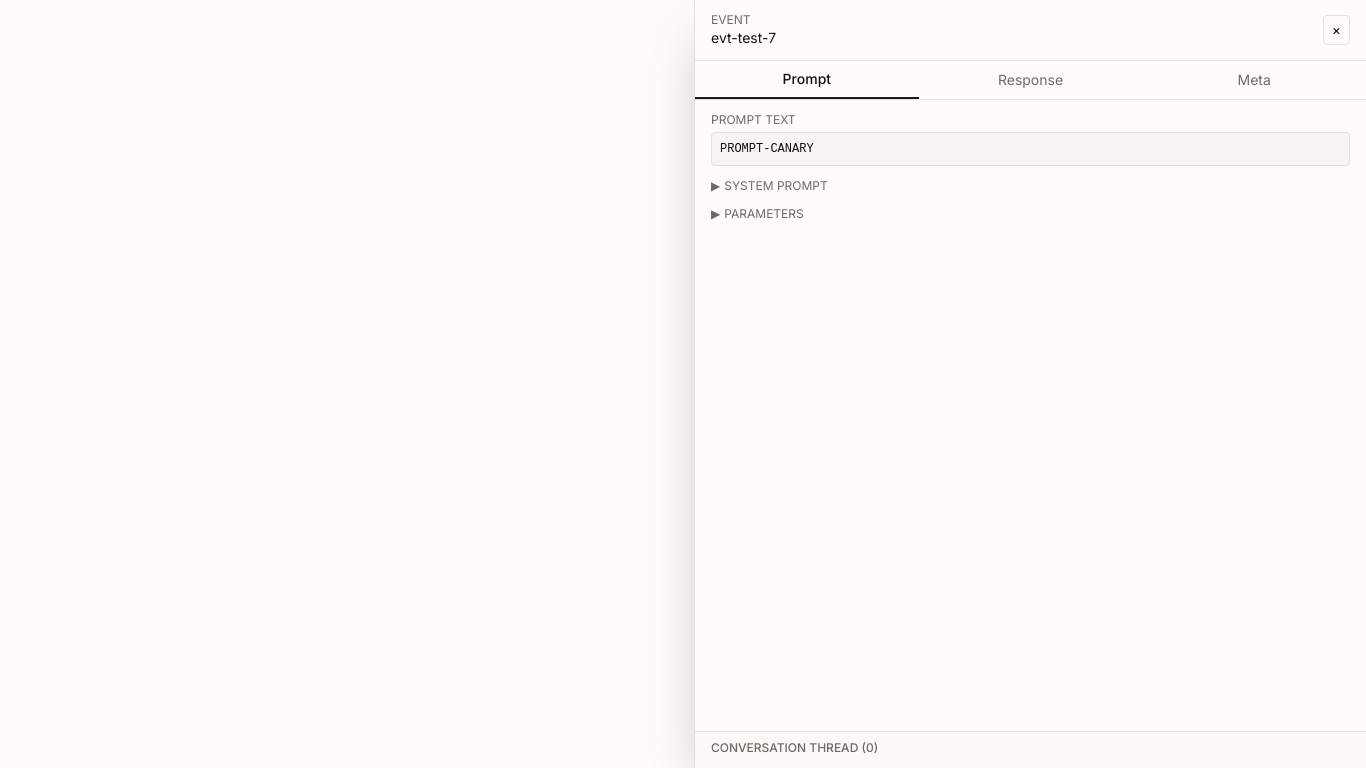
Test: EventSidePanel — tab switching › renders Prompt → Response → Meta with tab-specific content
Expected: the text "PROMPT-CANARY" is shown, [711,132,1350,166]
Expected: the text with test id "event-prompt-text" reads "PROMPT-CANARY", [720,142,814,156]
Click the tab with test id "event-side-panel-tab-response" at [1031, 80], box [919,61,1142,99]
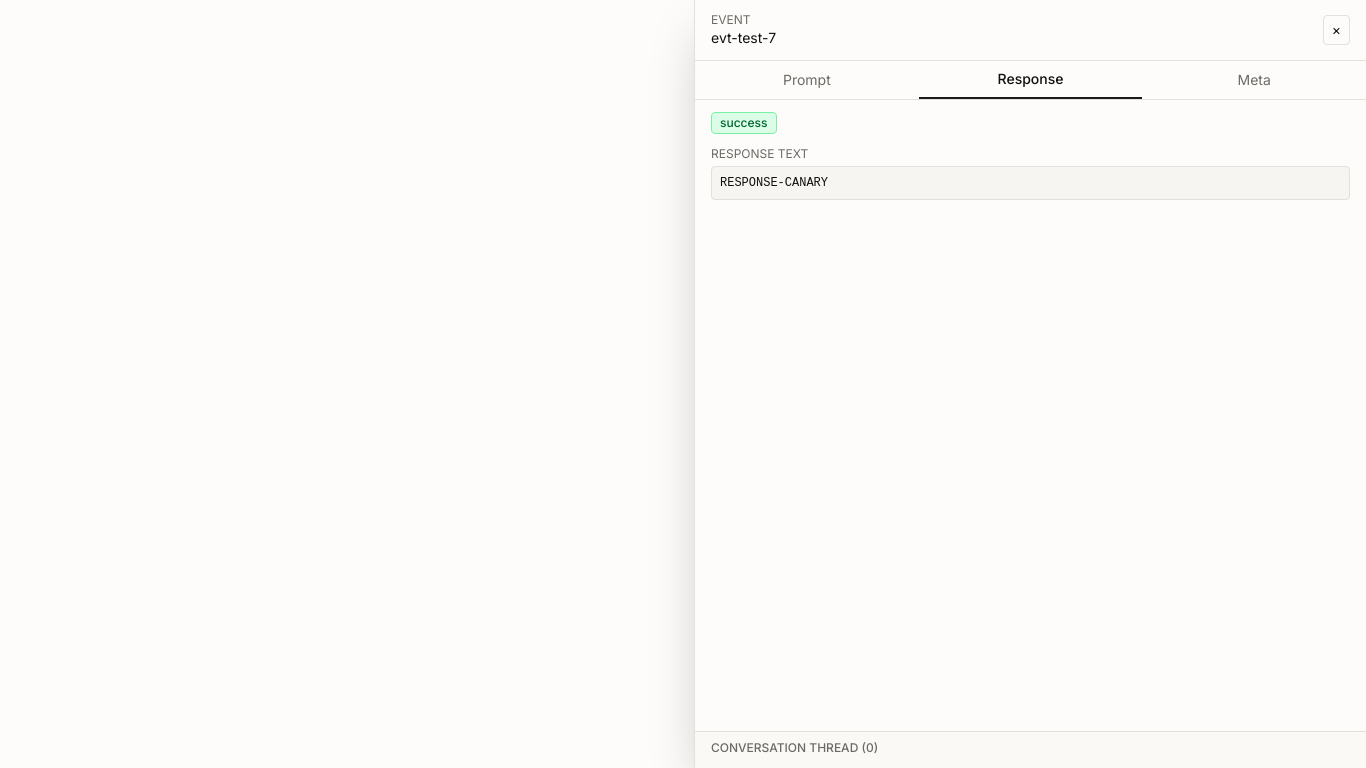
Now the text with test id "event-response-text" reads "RESPONSE-CANARY", box [720,176,828,190]
Now the text with test id "event-prompt-text" is gone
Click the tab with test id "event-side-panel-tab-meta" at [1254, 80], box [1142,61,1365,99]
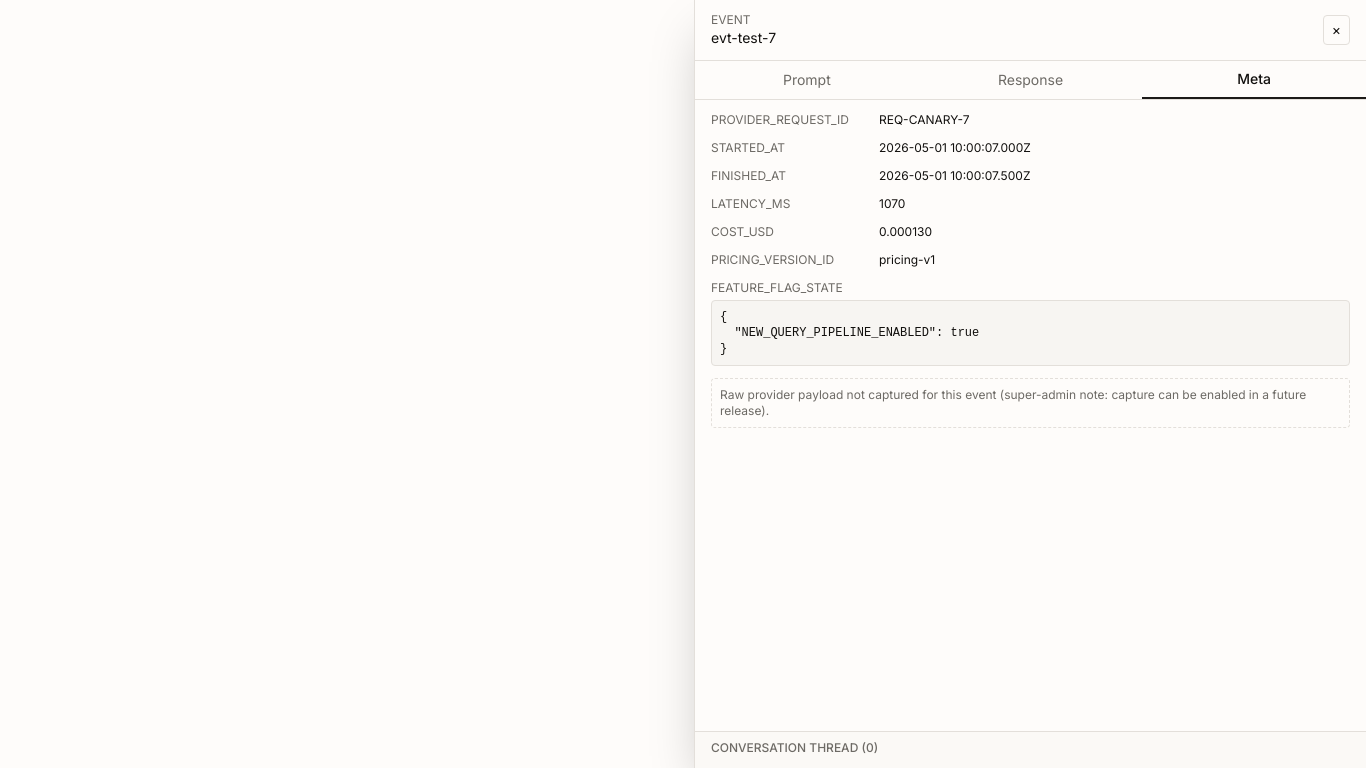
Now the element with test id "event-side-panel-meta" is shown, box [711,112,1350,428]
Now the element with test id "event-side-panel-meta" shows "REQ-CANARY-7", box [879,112,969,127]
Now the text with test id "event-raw-payload-note" shows "Raw provider payload not captured", box [720,387,1306,418]
